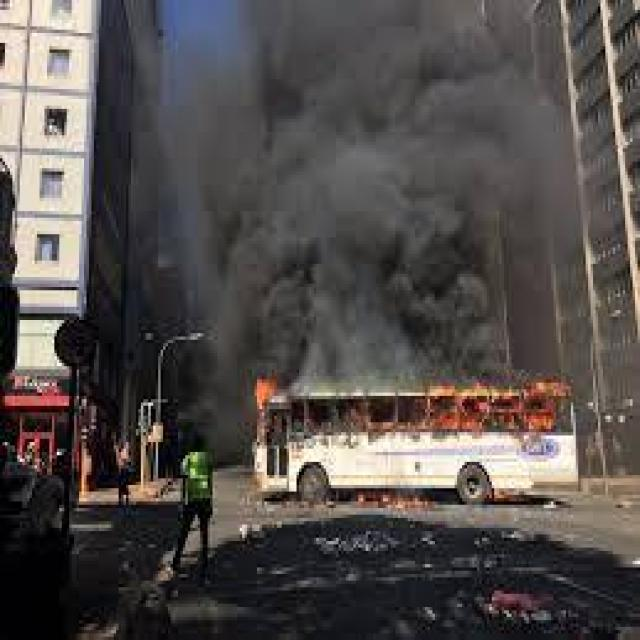fire: (156, 0, 541, 373), (228, 360, 586, 467)
smoke: (155, 7, 540, 373)
